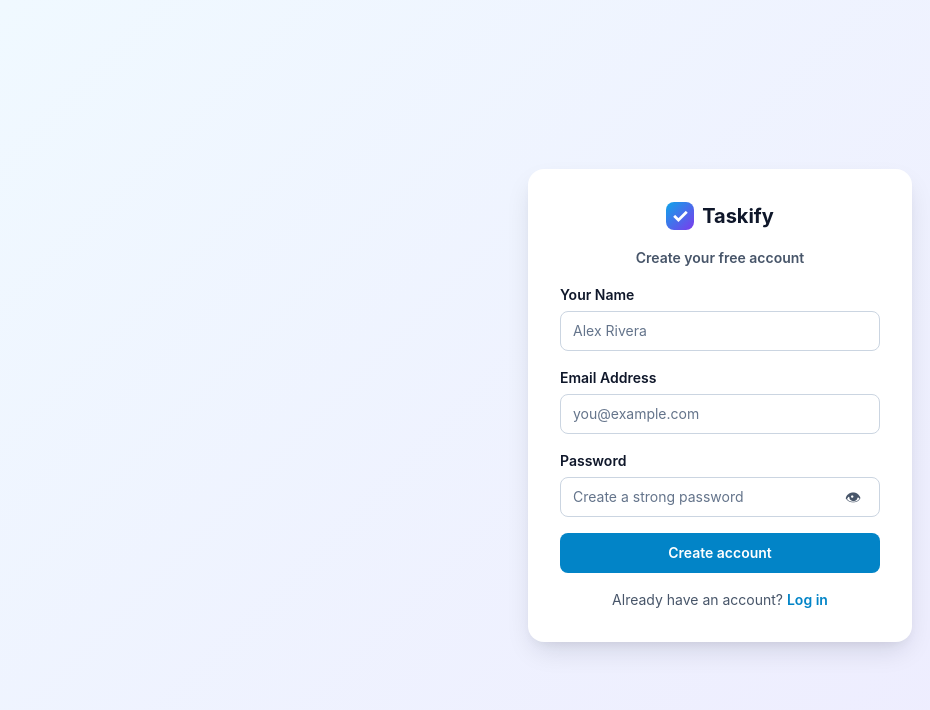
Scenario: SignupPage › rejects a weak password with an inline error
In the password field labelled "Password": (702, 496) [573,479,831,514], type "short"
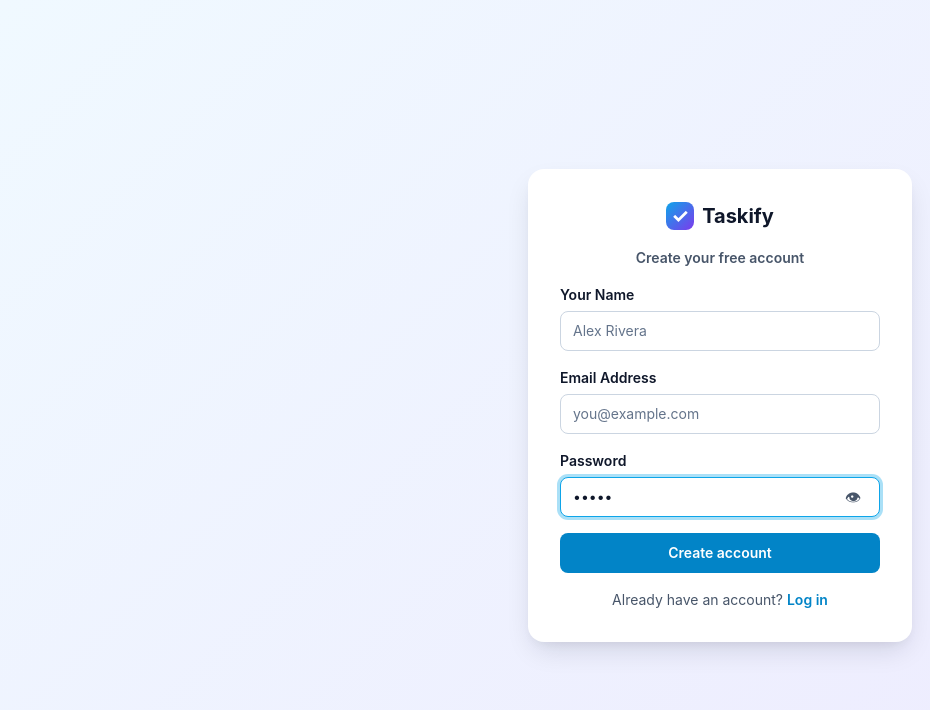
Click the button "Create account": click(720, 552) [560,532,880,572]
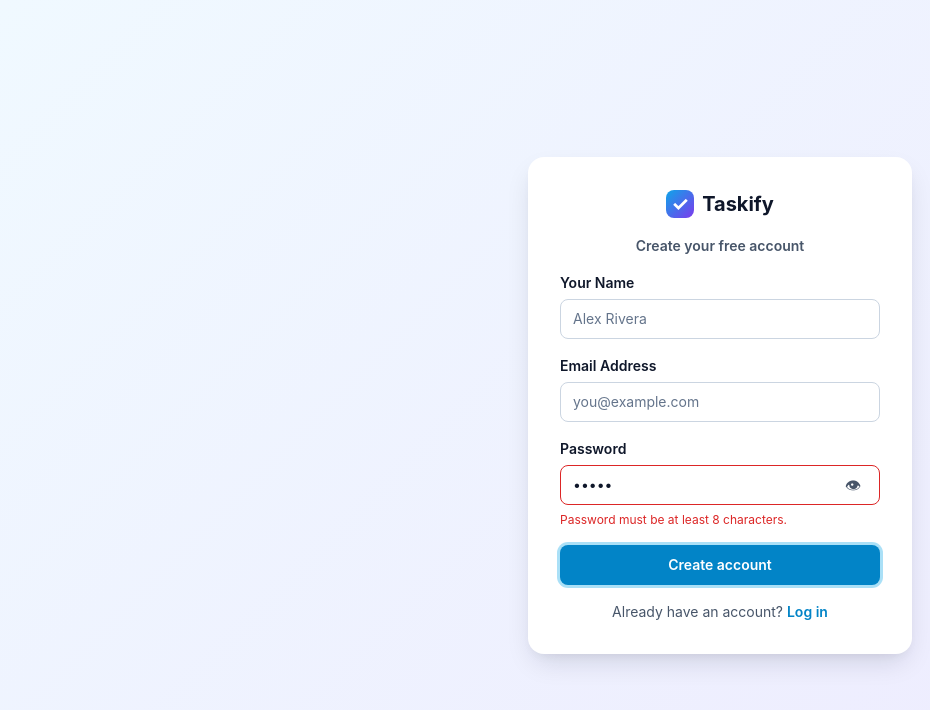
Check: the text "Password must be at least 8 characters." is shown, box [560,512,787,526]
